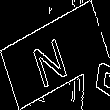N_NW: (34, 24, 76, 86)
